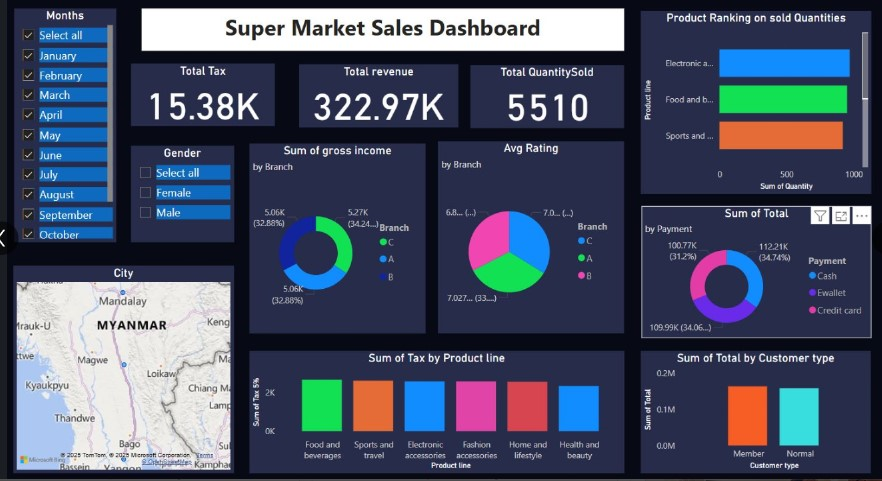

This screenshot's page, from the dashboard's own definition file:
{"tool":"powerbi","page":{"name":"Page 1","canvas":[1280,720],"ordinal":0},"visuals":[{"type":"slicer","title":"Months","fields":{"Values":["supermarket_sales - Sheet1 (2).Date.Variation.Date Hierarchy.Month"]},"box":[10.7,19,148.8,340.5],"z":0},{"type":"map","fields":{"Category":["supermarket_sales - Sheet1 (2).City"]},"box":[9.5,392.9,321.4,302.4],"z":1000},{"type":"donutChart","fields":{"Y":["Sum(supermarket_sales - Sheet1 (2).gross income)"],"Category":["supermarket_sales - Sheet1 (2).Branch"]},"box":[353.8,215.4,257.1,276.9],"z":2000},{"type":"slicer","title":"Gender","fields":{"Values":["supermarket_sales - Sheet1 (2).Gender"]},"box":[181,219,150,140.5],"z":3000},{"type":"clusteredBarChart","title":"Product Ranking on sold Quantities","fields":{"Category":["supermarket_sales - Sheet1 (2).Product line"],"Y":["Sum(SalesData.Quantity)"]},"box":[924.2,22,336.3,267],"z":4000},{"type":"pieChart","fields":{"Category":["supermarket_sales - Sheet1 (2).Branch"],"Y":["SalesData.Avg Rating"]},"box":[628.6,212.1,271.4,280.2],"z":5000},{"type":"card","title":"Total Tax","fields":{"Values":["Sum(SalesData.Tax 5%)"]},"box":[181.3,98.9,209.9,91.2],"z":6000},{"type":"donutChart","fields":{"Category":["SalesData.Payment"],"Y":["Sum(SalesData.Total)"]},"box":[925.3,306.6,335.2,192.3],"z":7000},{"type":"card","title":"Total revenue","fields":{"Values":["Sum(SalesData.Total)"]},"box":[426.2,100,232.1,91.7],"z":8000},{"type":"card","title":"Total QuantitySold","fields":{"Values":["Sum(SalesData.Quantity)"]},"box":[676.2,101.2,223.8,91.7],"z":9000},{"type":"textbox","box":[196.4,19,703.6,61.9],"z":10000},{"type":"lineClusteredColumnComboChart","fields":{"Category":["SalesData.Customer type"],"Y":["Sum(SalesData.Total)"]},"box":[924.2,517.6,335.2,178],"z":11000},{"type":"lineStackedColumnComboChart","title":"Sum of Tax  by Product line","fields":{"Y":["Sum(SalesData.Tax 5%)"],"Category":["SalesData.Product line"]},"box":[353.8,517.6,546.2,178],"z":12000}]}

Visuals, with their boxes in screenshot pixels (x1, y1, x2, y2):
"Months" slicer: [x1=14, y1=6, x2=116, y2=238]
map - supermarket_sales - Sheet1 (2).City: [x1=13, y1=261, x2=232, y2=467]
donutChart - Sum(supermarket_sales - Sheet1 (2).gross income) x supermarket_sales - Sheet1 (2).Branch: [x1=248, y1=140, x2=423, y2=329]
"Gender" slicer: [x1=130, y1=142, x2=233, y2=238]
"Product Ranking on sold Quantities" clusteredBarChart: [x1=637, y1=8, x2=866, y2=190]
pieChart - supermarket_sales - Sheet1 (2).Branch x SalesData.Avg Rating: [x1=435, y1=138, x2=620, y2=329]
"Total Tax" card: [x1=130, y1=61, x2=274, y2=123]
donutChart - SalesData.Payment x Sum(SalesData.Total): [x1=638, y1=202, x2=866, y2=333]
"Total revenue" card: [x1=297, y1=61, x2=456, y2=124]
"Total QuantitySold" card: [x1=468, y1=62, x2=620, y2=125]
textbox: [x1=141, y1=6, x2=620, y2=48]
lineClusteredColumnComboChart - SalesData.Customer type x Sum(SalesData.Total): [x1=637, y1=346, x2=865, y2=467]
"Sum of Tax  by Product line" lineStackedColumnComboChart: [x1=248, y1=346, x2=620, y2=467]
